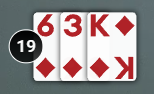3: (56, 7, 87, 40)
6: (31, 10, 59, 40)
k: (85, 8, 113, 41)
